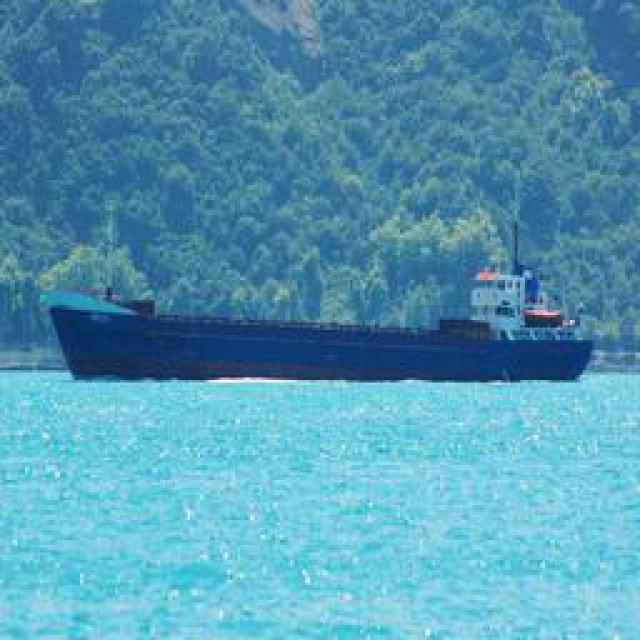Ship: (52, 291, 592, 384)
